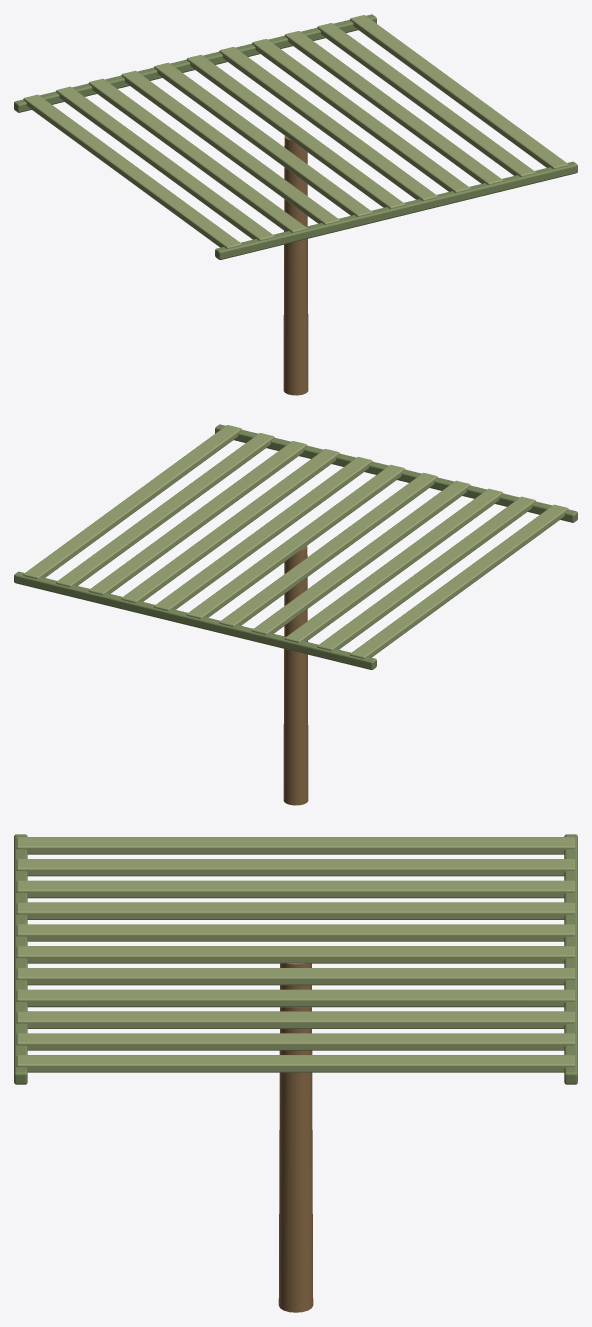
File: fixture-zebra-shade-v01.glb
3 views of the same model, one above another, from view 1: azimuth 30°, elevation 25°; view 2: azimuth 150°, elevation 25°; view 3: azimuth 270°, elevation 25° (orthographic). The views are drawn at different scales.
Visible parts, largest first — view 1: merged-static (×2), post; view 2: merged-static (×2), post; view 3: merged-static (×2), post.
Boxes of the visible parts, left/top/right/bottom form: merged-static (×2): left=14, top=14, right=577, bottom=259; post: left=283, top=135, right=308, bottom=395; merged-static (×2): left=14, top=424, right=577, bottom=669; post: left=283, top=545, right=308, bottom=805; merged-static (×2): left=14, top=834, right=577, bottom=1084; post: left=278, top=963, right=313, bottom=1312.
Bounding box in the file's own units: 3.3 × 2.28 × 3.28.
